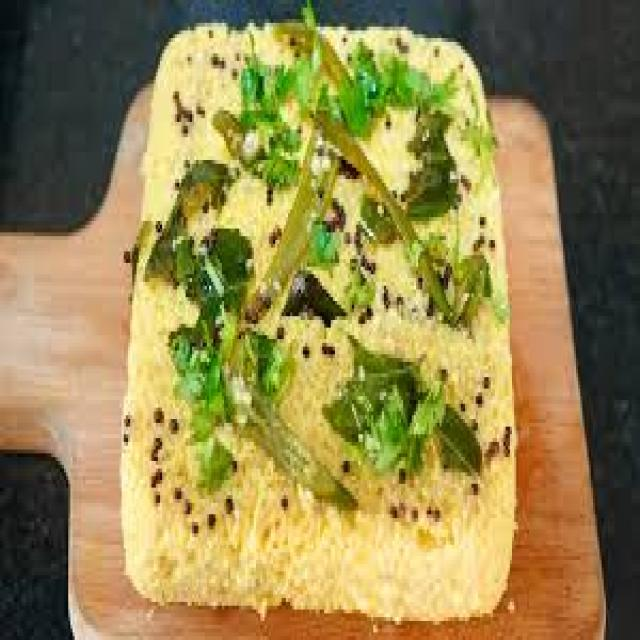DHOKLA: (124, 8, 514, 617)
